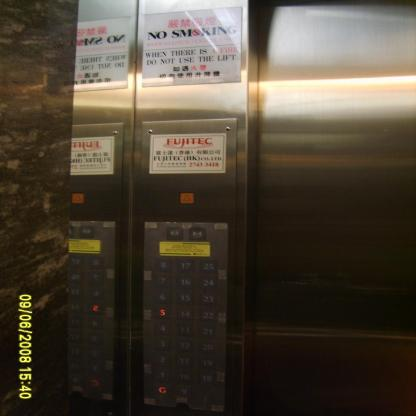1: (154, 370, 171, 381)
10: (174, 370, 192, 383)
11: (175, 354, 194, 368)
12: (175, 339, 194, 352)
13: (176, 323, 194, 337)
14: (176, 306, 194, 320)
15: (176, 291, 196, 305)
16: (177, 275, 194, 289)
17: (176, 259, 194, 273)
18: (199, 372, 217, 387)
19: (199, 356, 217, 370)
2: (154, 354, 172, 368)
20: (199, 339, 217, 354)
21: (199, 324, 217, 338)
22: (199, 307, 217, 322)
23: (198, 292, 217, 306)
24: (199, 275, 217, 290)
25: (198, 259, 218, 274)
3: (154, 338, 171, 350)
4: (153, 322, 171, 336)
5: (153, 307, 172, 319)
6: (154, 289, 172, 304)
7: (154, 274, 172, 288)
8: (154, 258, 172, 272)
9: (174, 384, 192, 398)
G: (154, 383, 172, 396)
alarm: (178, 191, 194, 204)
close: (188, 226, 206, 240)
open: (165, 226, 184, 240)
